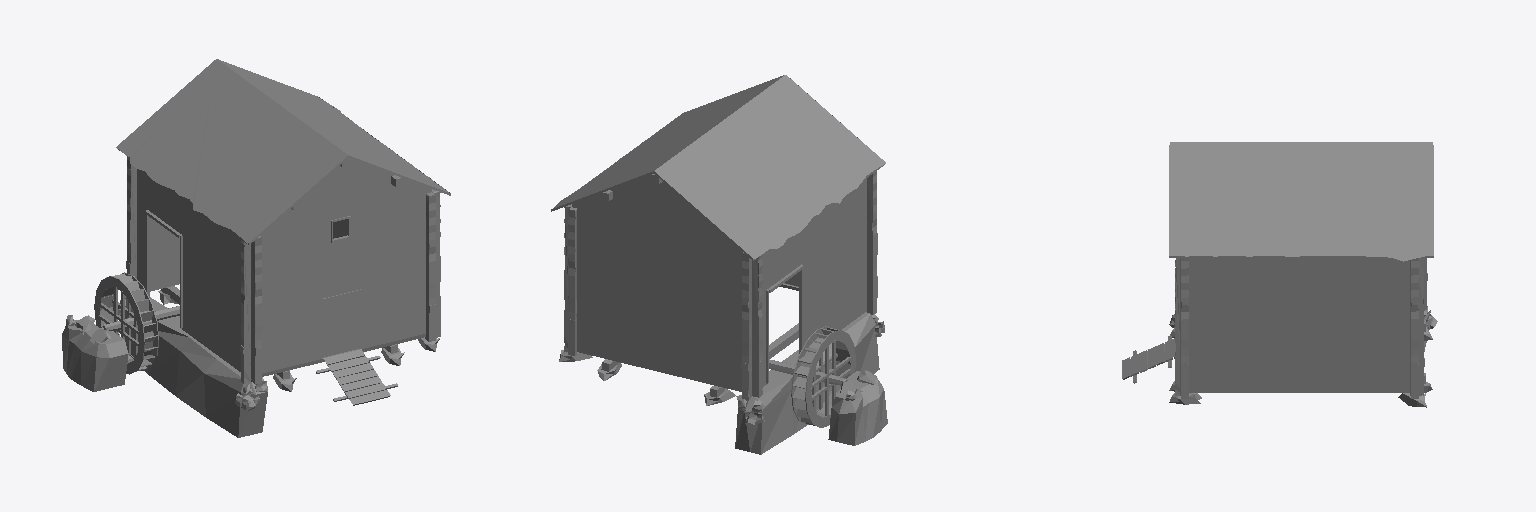
Rendered from watermill_test_03.obj.
3 views of the same model, side by side, from view 1: azimuth 30°, elevation 25°; view 2: azimuth 150°, elevation 25°; view 3: azimuth 270°, elevation 25° (orthographic).
Parts seen in each view (by area): view 1: seinat, katto, kiviroykkiot, paadyt, ratas, ovi, portaat, irtonaiset_kivet, ratas_aukon_karmit, kivet_aitan_alla, VALIKATTO; view 2: seinat, katto, kiviroykkiot, paadyt, ratas, irtonaiset_kivet, ratas_aukon_karmit, ala_paalut, kivet_aitan_alla, VALIKATTO; view 3: katto, seinat, paadyt, portaat, VALIKATTO, kivet_aitan_alla.
Boxes of the visible parts, x1,y1,x2,y2 form: seinat: [137, 158, 431, 379]; katto: [116, 59, 448, 243]; kiviroykkiot: [62, 297, 267, 437]; paadyt: [126, 156, 440, 384]; ratas: [94, 272, 158, 374]; ovi: [322, 289, 360, 357]; portaat: [316, 349, 397, 405]; irtonaiset_kivet: [66, 296, 267, 410]; ratas_aukon_karmit: [145, 210, 182, 328]; kivet_aitan_alla: [158, 290, 439, 391]; VALIKATTO: [118, 87, 450, 244]; seinat: [572, 174, 866, 391]; katto: [553, 75, 885, 258]; kiviroykkiot: [735, 312, 887, 454]; paadyt: [564, 171, 877, 399]; ratas: [791, 326, 855, 427]; irtonaiset_kivet: [736, 314, 884, 427]; ratas_aukon_karmit: [766, 264, 803, 383]; ala_paalut: [601, 323, 798, 397]; kivet_aitan_alla: [559, 350, 735, 405]; VALIKATTO: [551, 78, 884, 260]; katto: [1170, 142, 1432, 261]; seinat: [1188, 258, 1409, 392]; paadyt: [1175, 258, 1427, 398]; portaat: [1122, 335, 1175, 383]; VALIKATTO: [1169, 145, 1433, 257]; kivet_aitan_alla: [1169, 327, 1432, 407].
Bounding box in the file's own units: 6746 × 5866 × 6353.